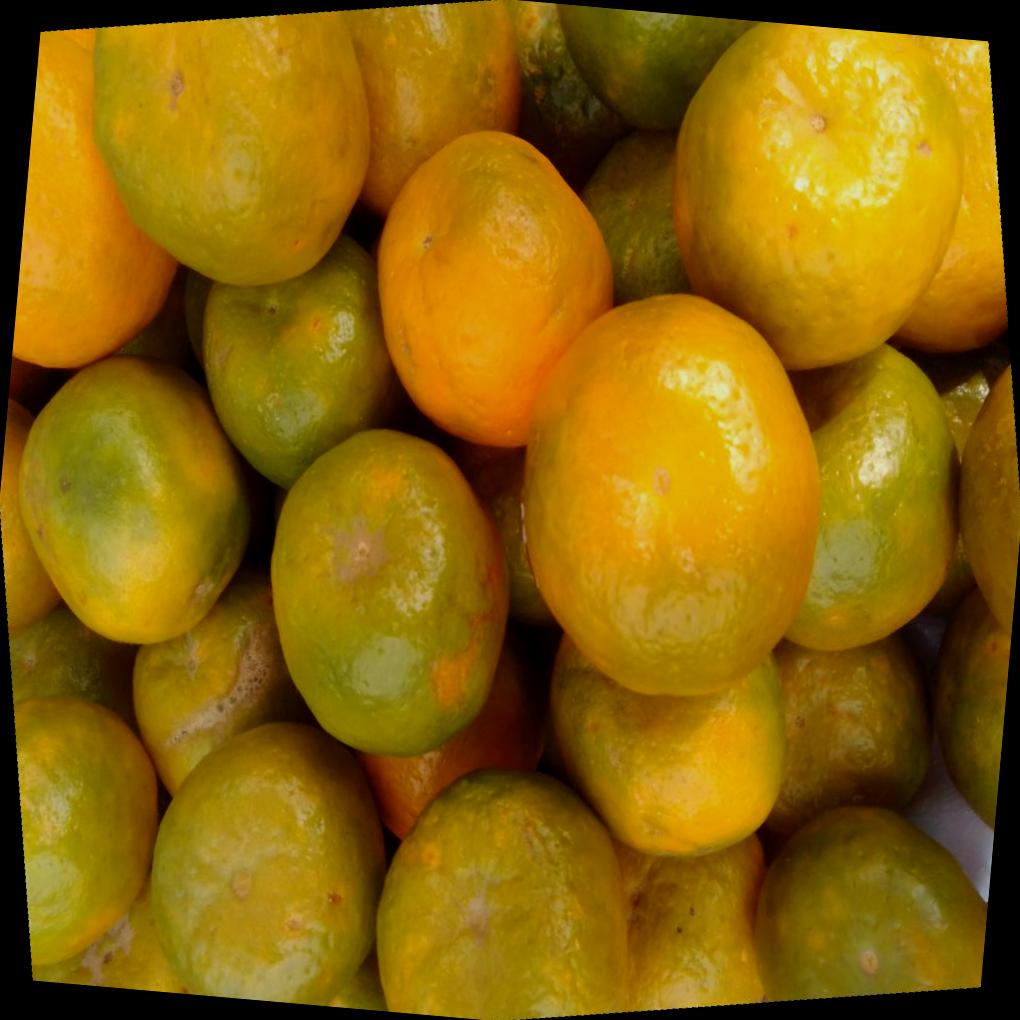FreshGuava: (15, 0, 1011, 1020)
